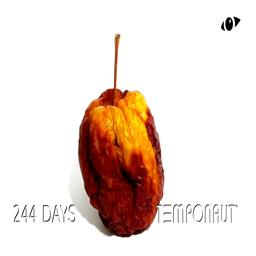Apple Rotten: (67, 31, 171, 239)
